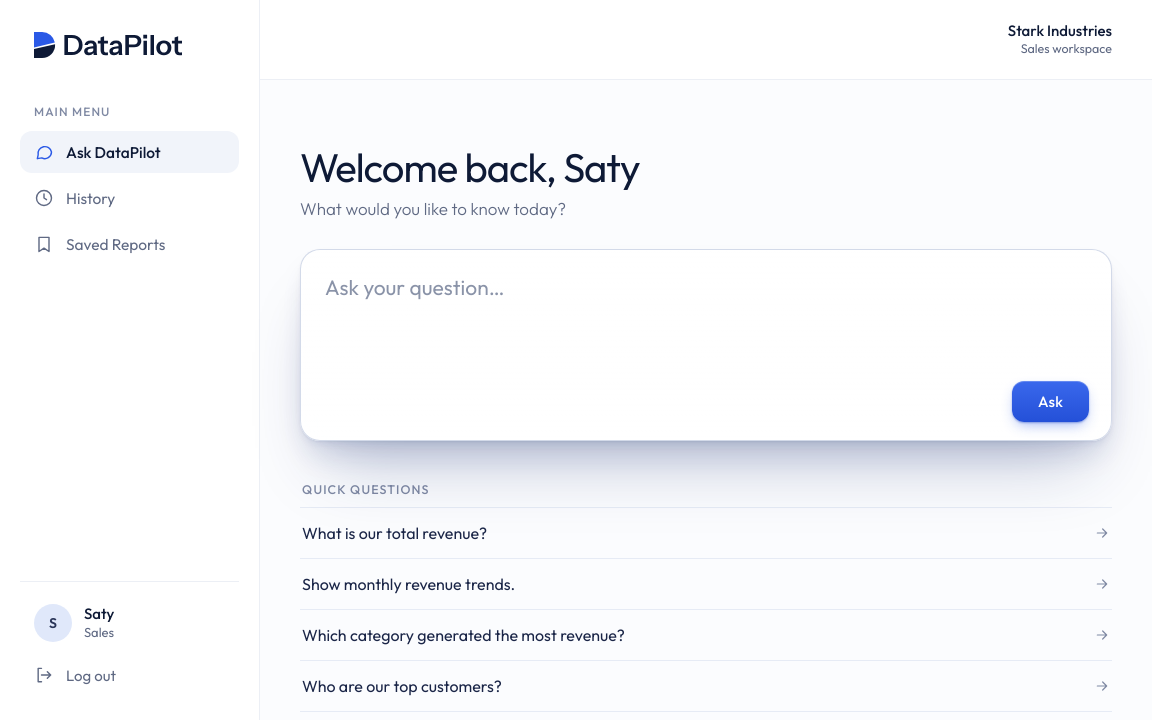
Test case: DataPilot page › shows the Ask home before the first question and replaces it with the answer
expect the text "What would you like to know today?" is shown: met, box [300,198,566,219]
Type "What are the top 2 categories by revenue?" into the text box labelled "your question" at (707, 319), box [325,272,1089,366]
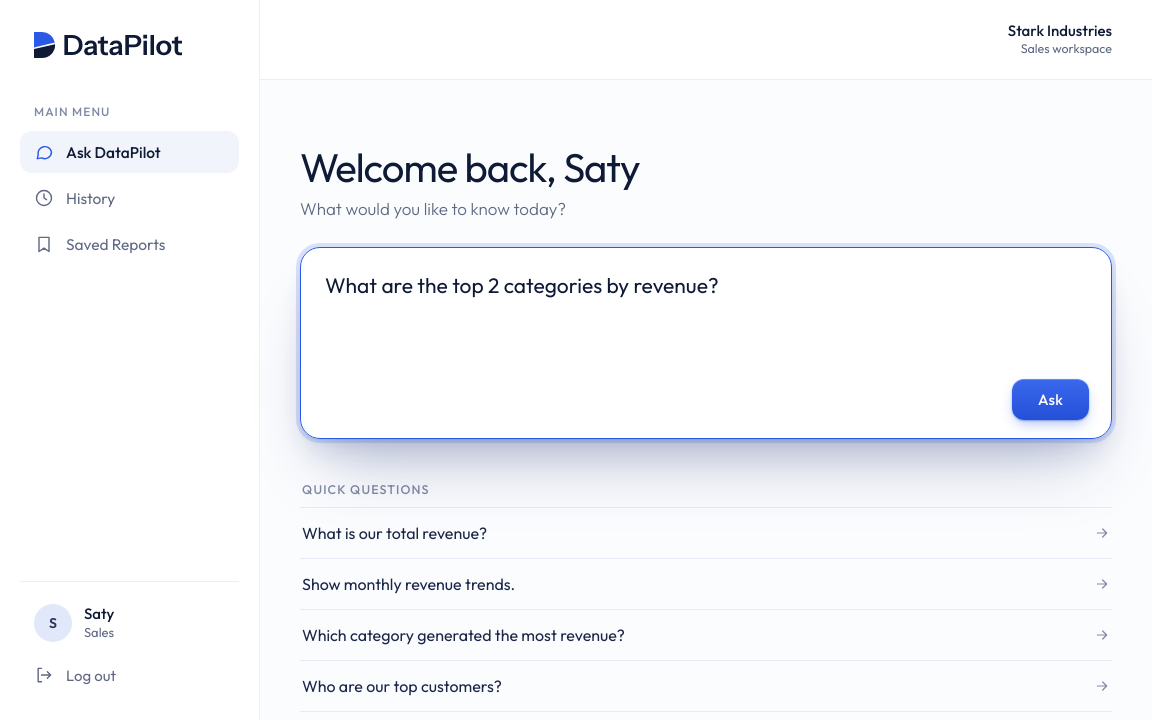
Click the button "Ask" at (1050, 399), box [1012,378,1089,420]
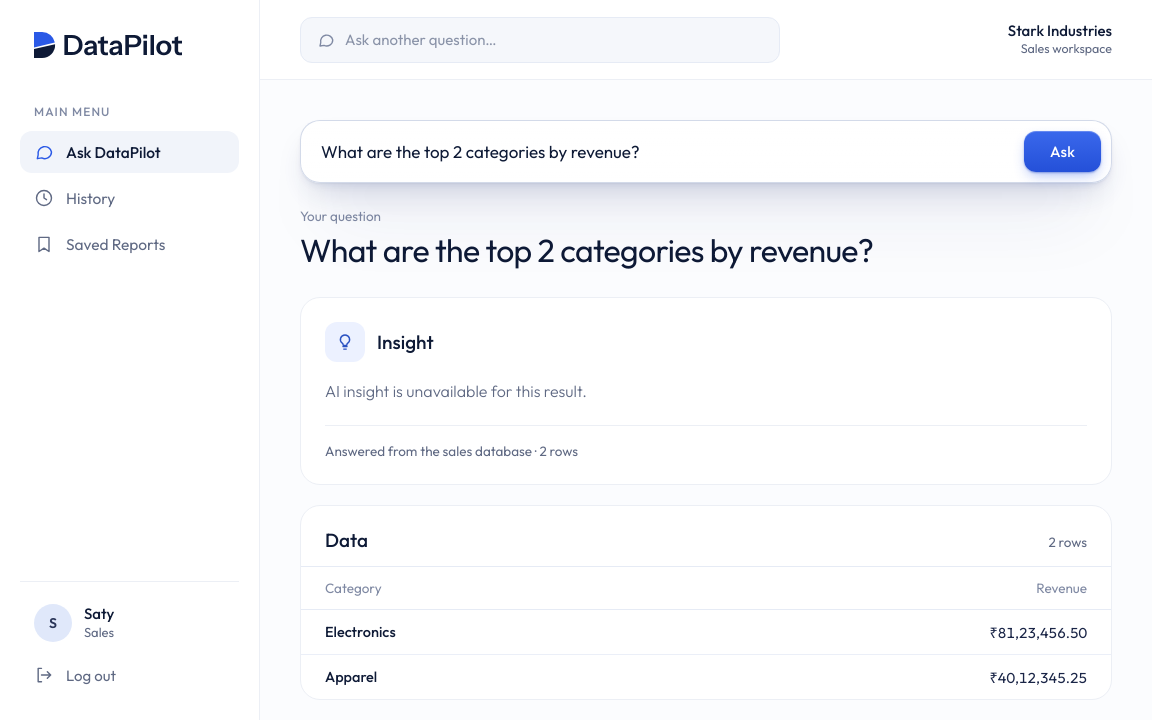
expect the heading "Data" is shown: met, box [325,528,368,552]
expect the heading "What are the top 2 categories by revenue?" is shown: met, box [300,230,873,270]
expect the text "What would you like to know today?" is gone: met
